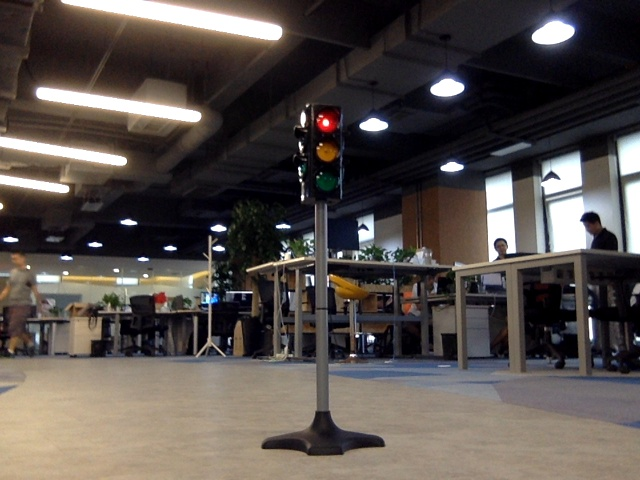red: (311, 107, 338, 196)
